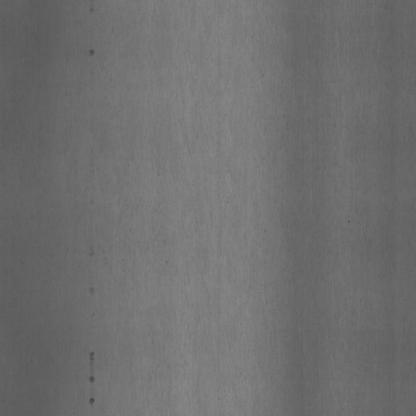oil_spot: (86, 348, 96, 409), (89, 241, 98, 304), (88, 41, 96, 64)
